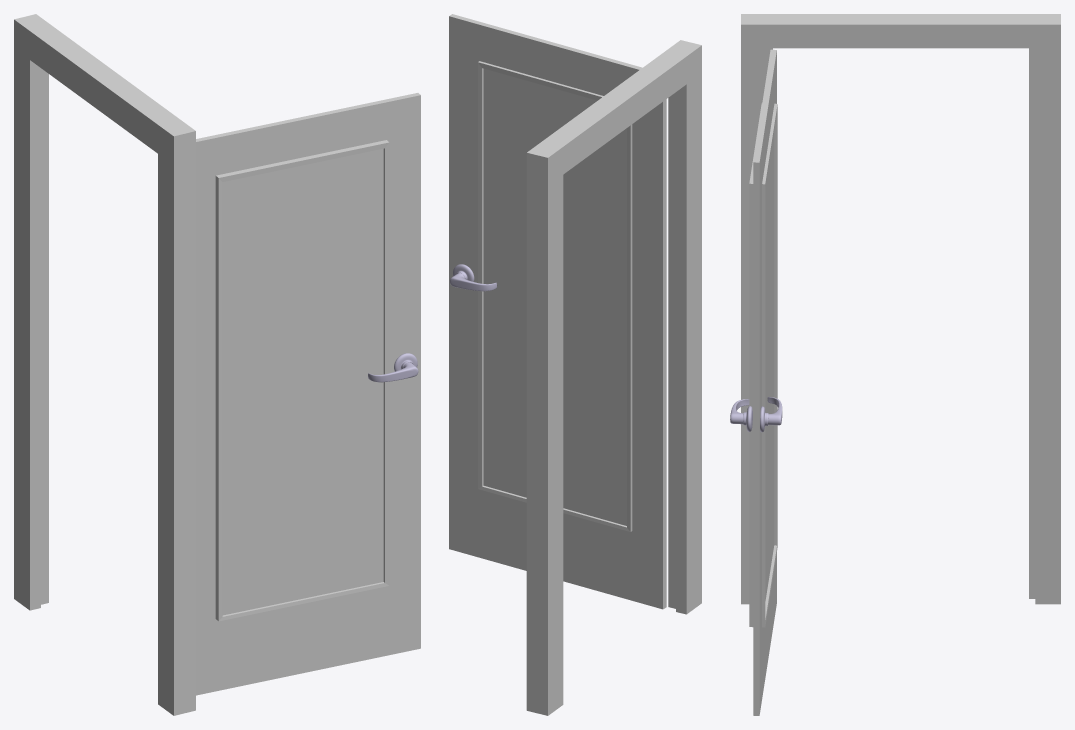
Rendered from washRoomDoor.dae.
3 renders of one model, left to right at view 1: azimuth 30°, elevation 25°; view 2: azimuth 150°, elevation 25°; view 3: azimuth 270°, elevation 25°, orthographic. The views are drawn at different scales.
Visible parts, largest first — view 1: Door, DoorFrame, Handle_Back; view 2: Door, DoorFrame, Handle_Front; view 3: DoorFrame, Door.
Part boxes in pixels (x1,y1,x2,y2): Door: [196, 93, 420, 695]; DoorFrame: [14, 14, 195, 715]; Handle_Back: [368, 353, 418, 382]; Door: [449, 14, 666, 609]; DoorFrame: [526, 40, 701, 715]; Handle_Front: [449, 264, 497, 291]; DoorFrame: [741, 14, 1060, 604]; Door: [749, 49, 777, 715].
Bounding box in the file's own units: 0.9155 × 1.03 × 2.
